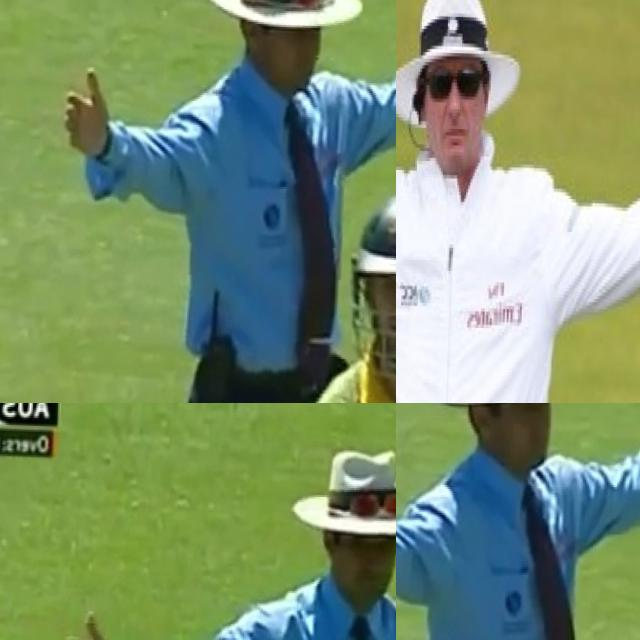No_Ball: (43, 427, 396, 640)
Wide: (396, 0, 640, 403), (47, 0, 396, 273), (396, 403, 640, 640)
